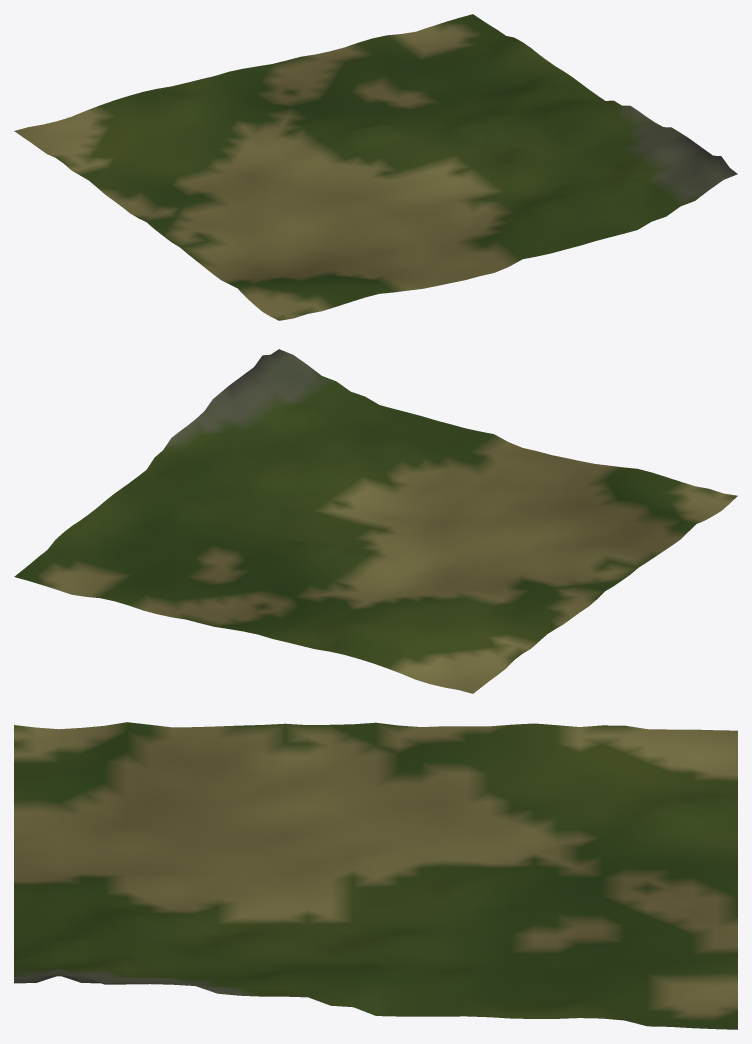
File: terrain_lod0_-2_-1.obj
The picture shows the model from 3 angles, top to bottom: view 1: azimuth 30°, elevation 25°; view 2: azimuth 150°, elevation 25°; view 3: azimuth 270°, elevation 25°; orthographic projection. The views are drawn at different scales.
Parts seen in each view (by area): view 1: terrain_lod0_-2_-1; view 2: terrain_lod0_-2_-1; view 3: terrain_lod0_-2_-1.
Boxes of the visible parts, x1,y1,x2,y2 form: terrain_lod0_-2_-1: (14, 14, 737, 320); terrain_lod0_-2_-1: (14, 349, 737, 693); terrain_lod0_-2_-1: (14, 722, 737, 1029).
Size of the model in its own units: 128 by 13.42 by 128.
